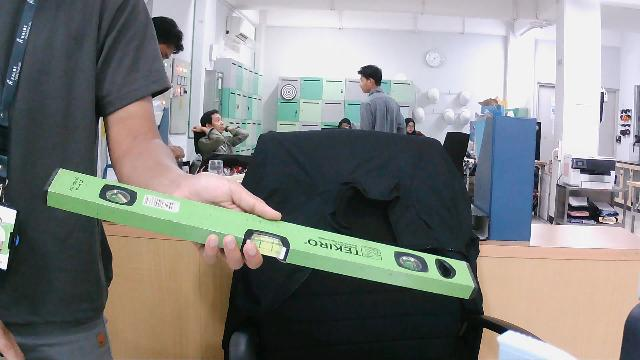water_pass: (43, 154, 482, 309)
